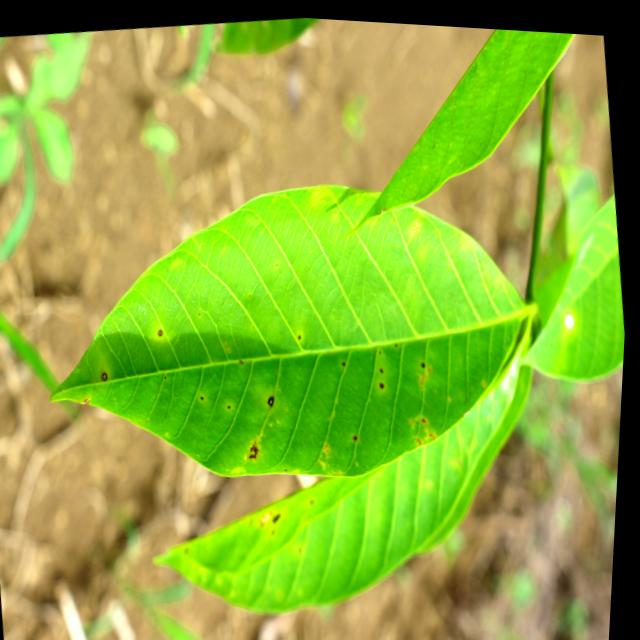Colletotrichum: (271, 391, 279, 403), (104, 370, 112, 379), (160, 327, 166, 334), (383, 377, 388, 383)
